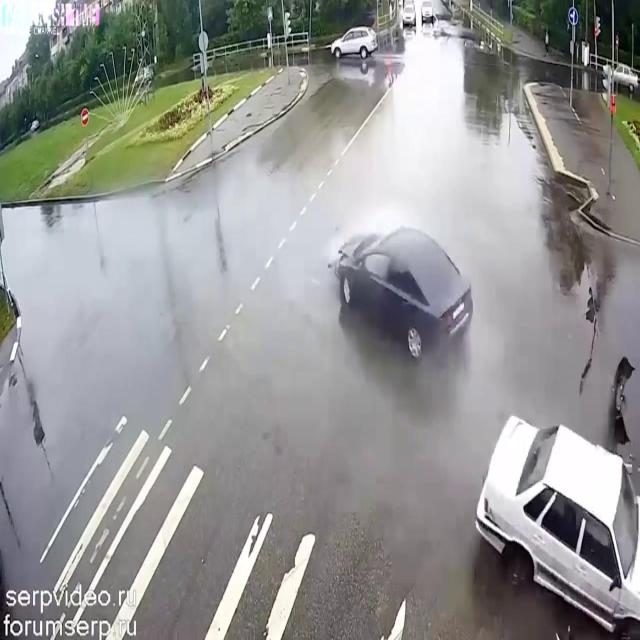accident: (325, 206, 640, 640)
